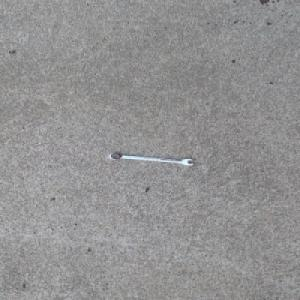Wrench: (107, 152, 196, 167)
